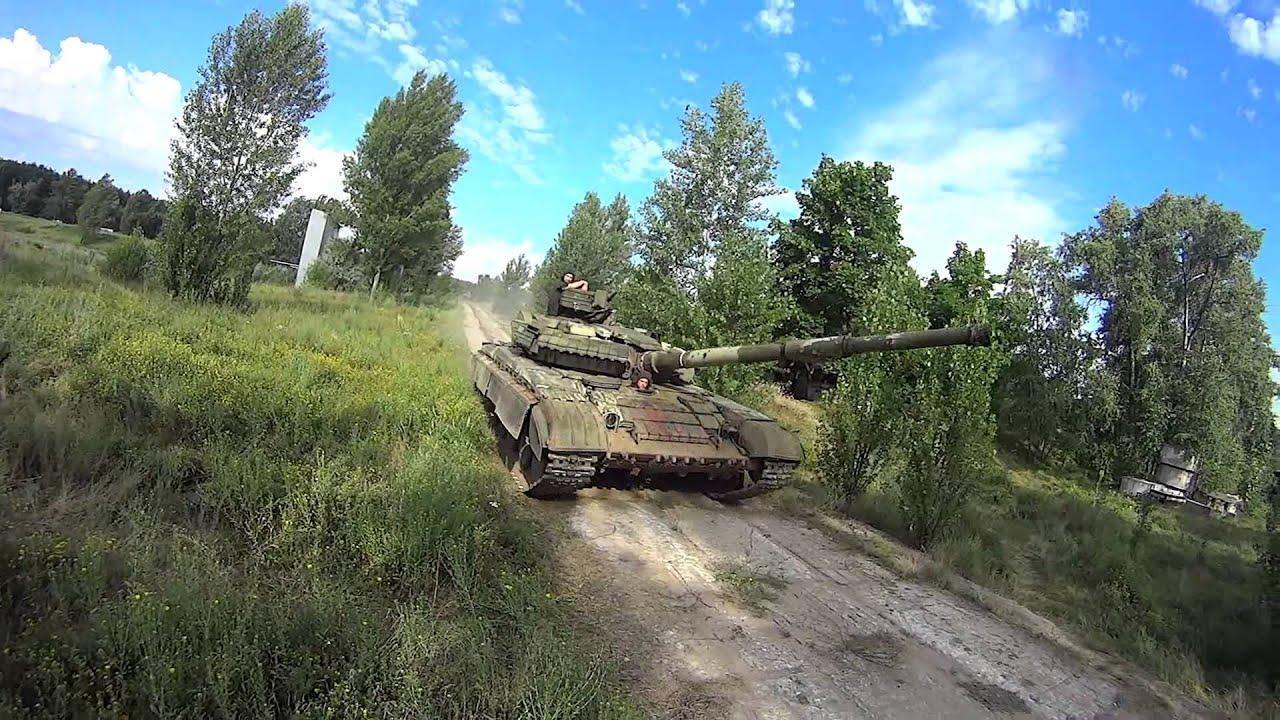tank: (457, 311, 996, 524)
